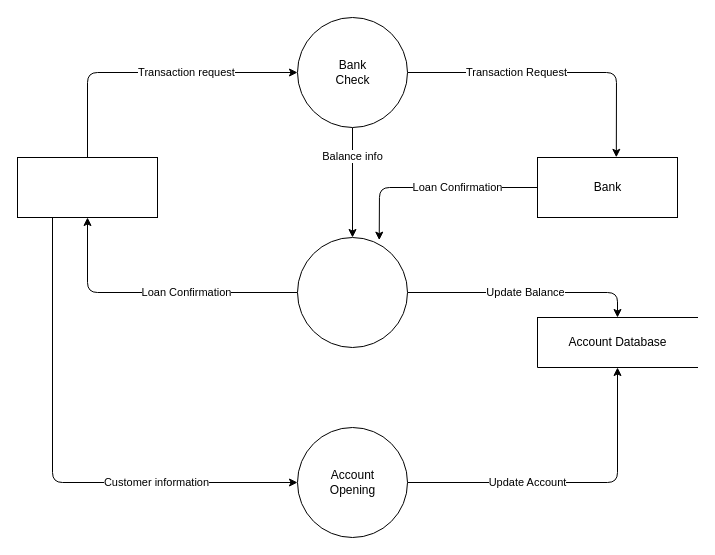
Image size: 715x555. Some labels were removed from this diagram. Here are the shapes that lost their labels. From the top down, the centre of each, then its label:
At pixel 87 187: "Customer".
At pixel 352 292: "Transaction Process".
